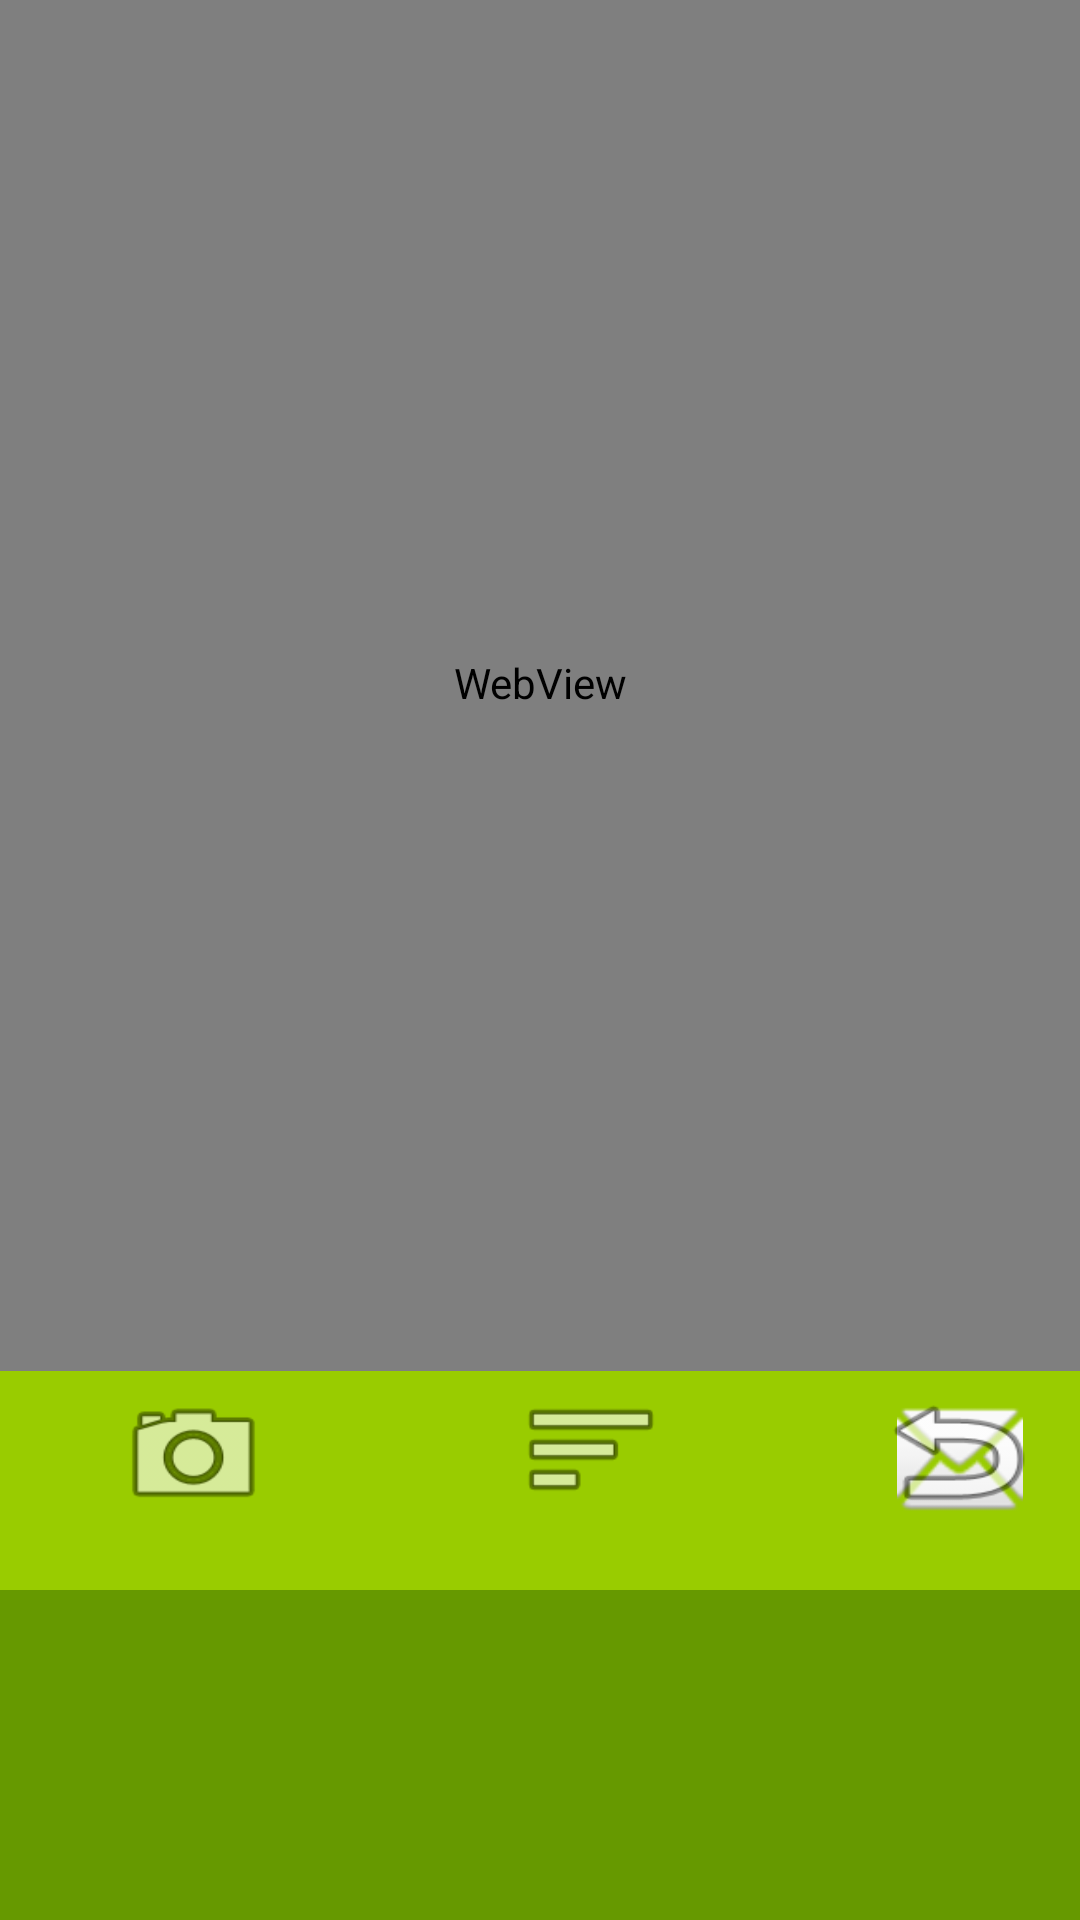

Screen size 1080 × 1920. Icon name, then its box in pixels as (x1, y1, x2, y2):
camera: (132, 1408, 255, 1497)
sort by size: (529, 1409, 653, 1490)
